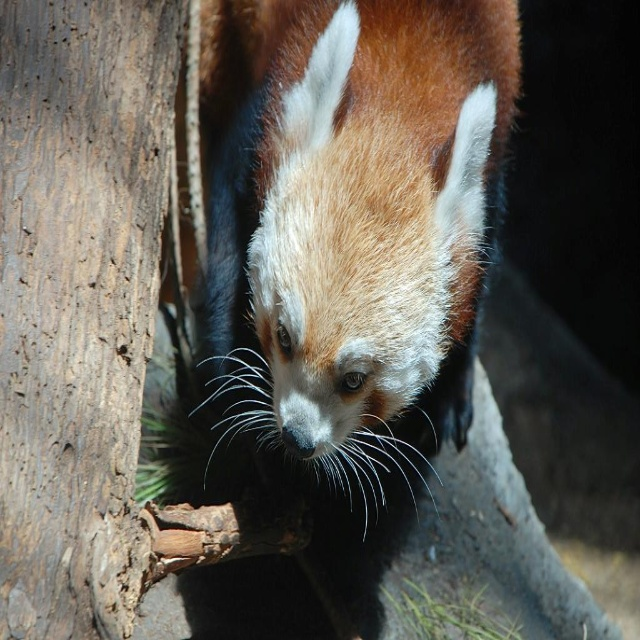Red panda: (199, 0, 524, 542)
